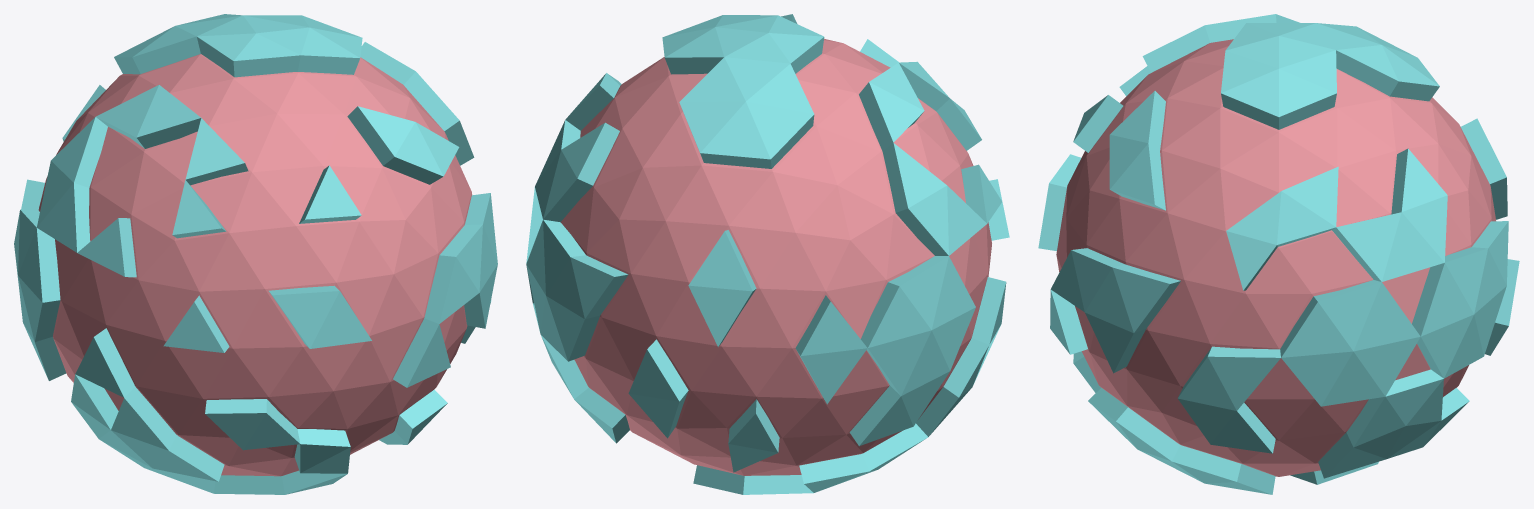
The model's file is Planeta_2.fbx.
The picture shows the model from 3 angles, left to right: view 1: azimuth 30°, elevation 25°; view 2: azimuth 150°, elevation 25°; view 3: azimuth 270°, elevation 25°; orthographic projection.
Visible parts, largest first — view 1: Icosphere.010, Icosphere.001; view 2: Icosphere.010, Icosphere.001; view 3: Icosphere.001, Icosphere.010.
Part boxes in pixels (bbox=[...]): Icosphere.010: bbox=[38, 54, 472, 476]; Icosphere.001: bbox=[14, 14, 497, 494]; Icosphere.010: bbox=[560, 39, 991, 475]; Icosphere.001: bbox=[526, 14, 1009, 494]; Icosphere.001: bbox=[1038, 14, 1519, 494]; Icosphere.010: bbox=[1056, 39, 1495, 476].
Size of the model in its own units: 2402 by 2402 by 2398.
